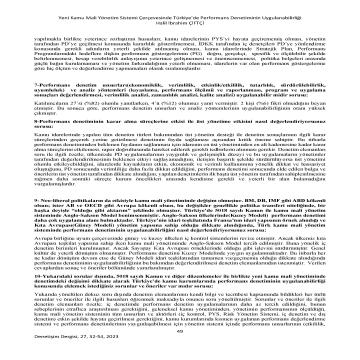header: (57, 11, 304, 26)
